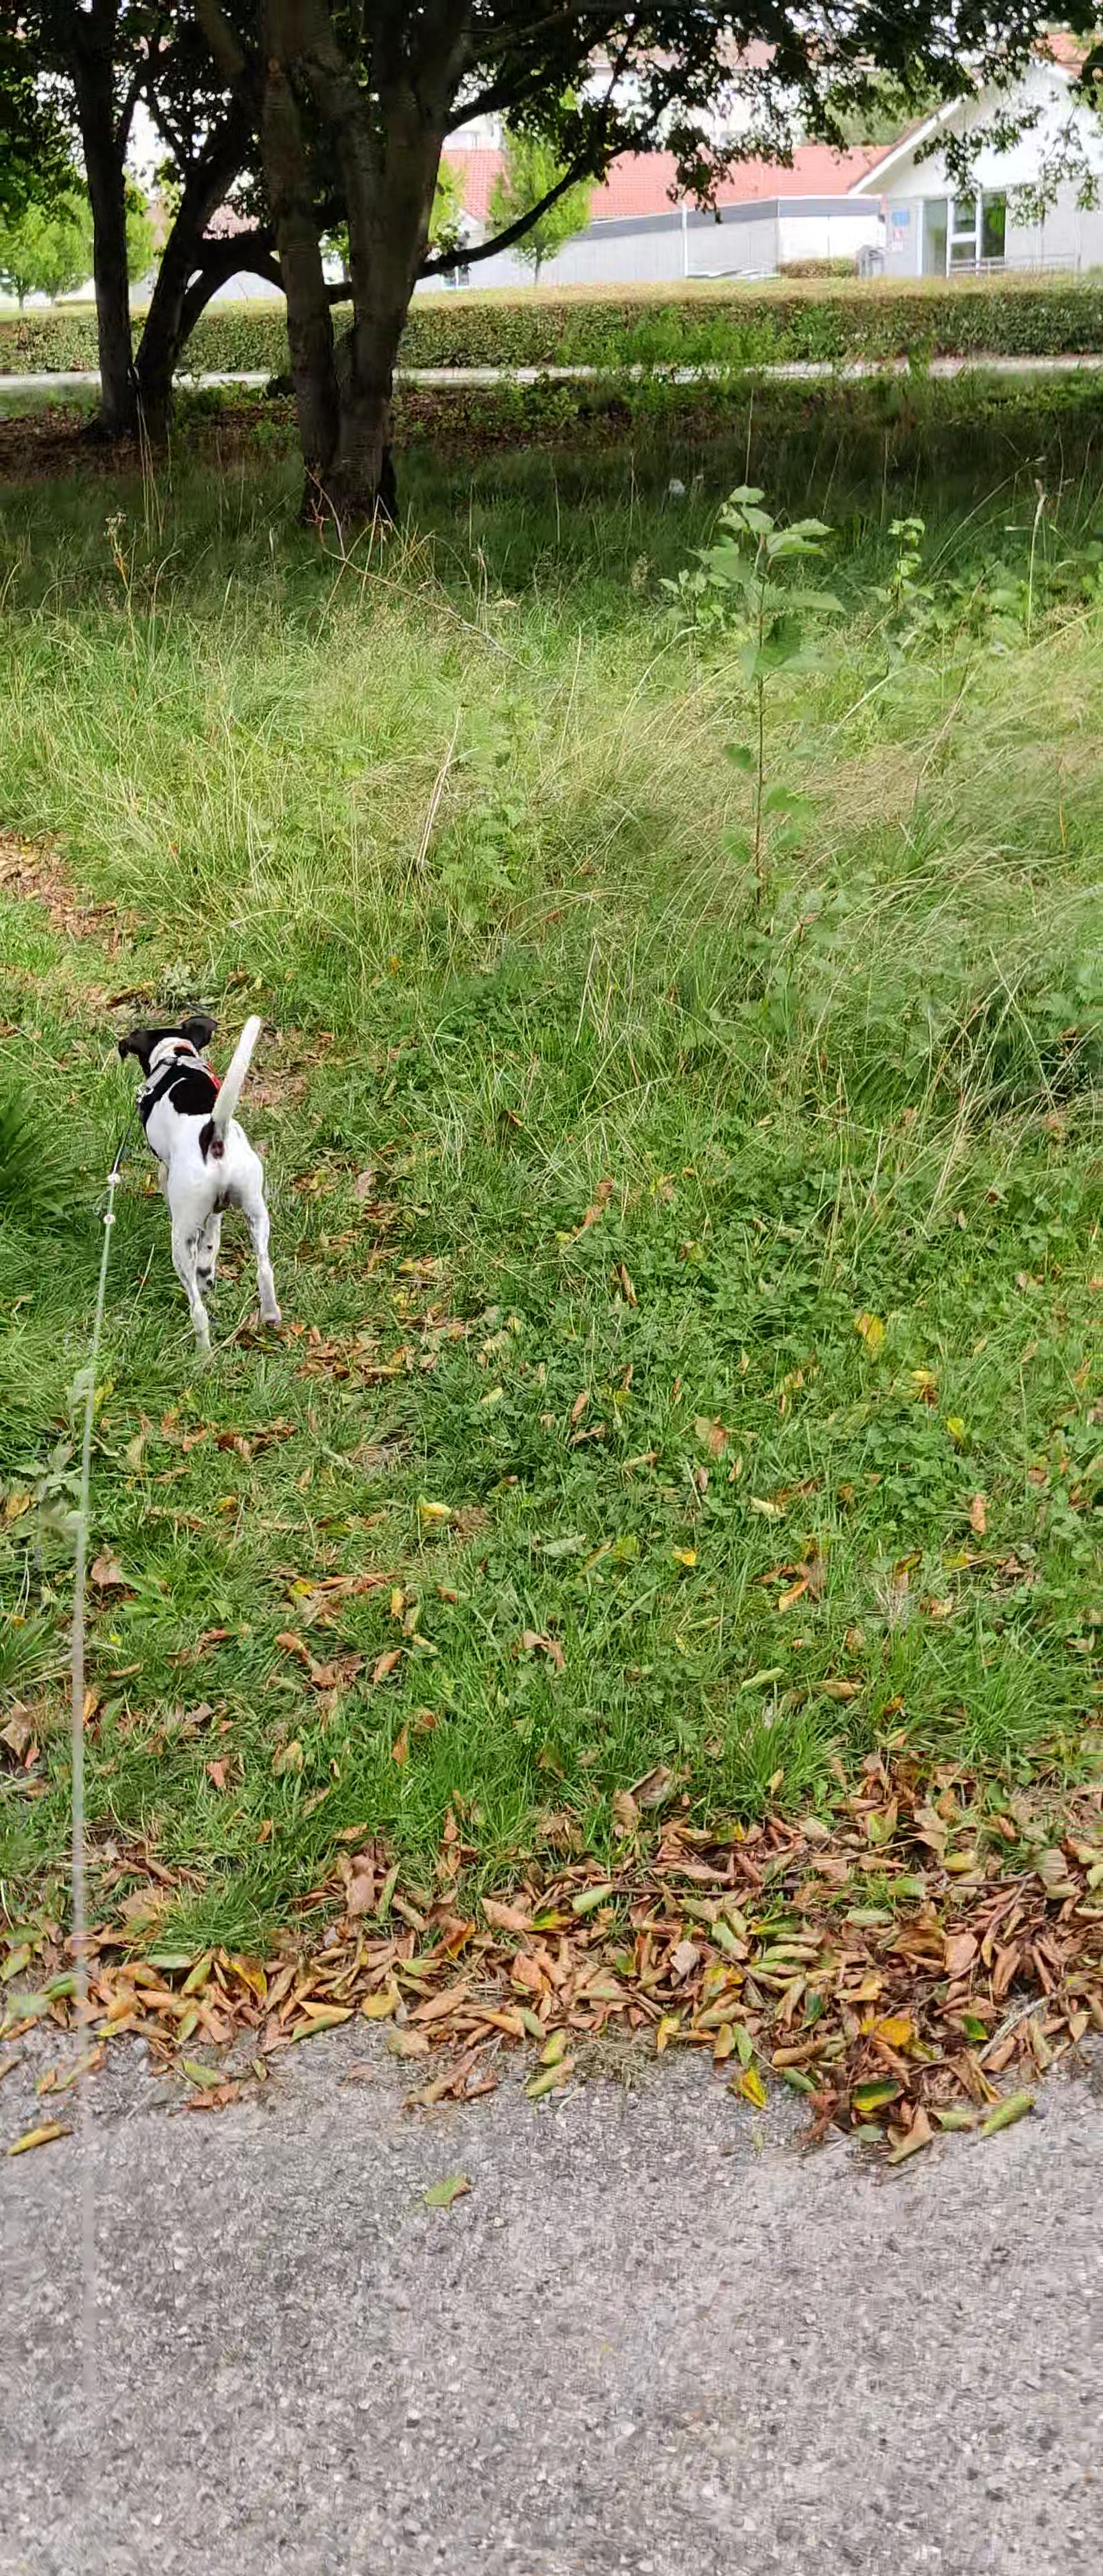Dog: (113, 1009, 286, 1368)
